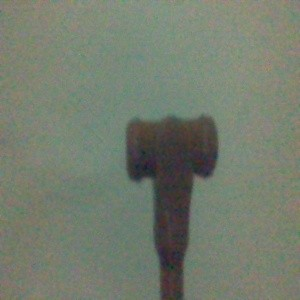palu: (125, 112, 220, 300)
